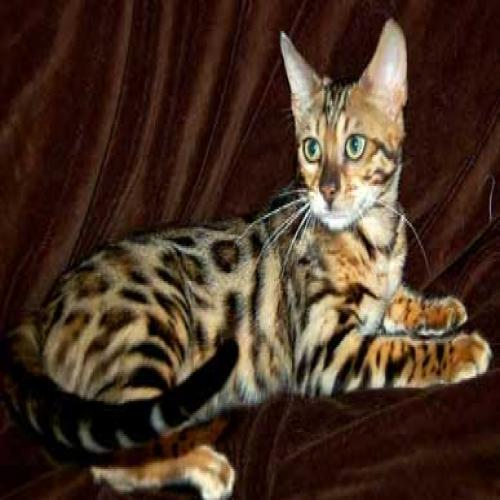bengal: (272, 19, 417, 245)
